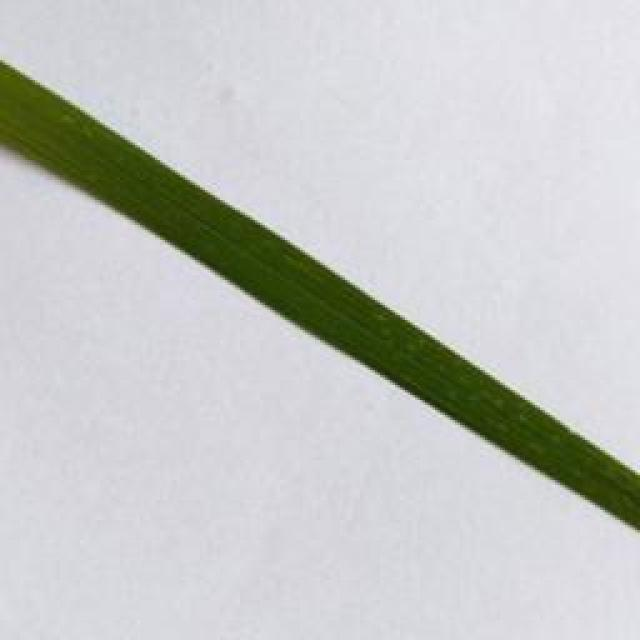Healthy-Plant: (74, 112, 640, 547)
